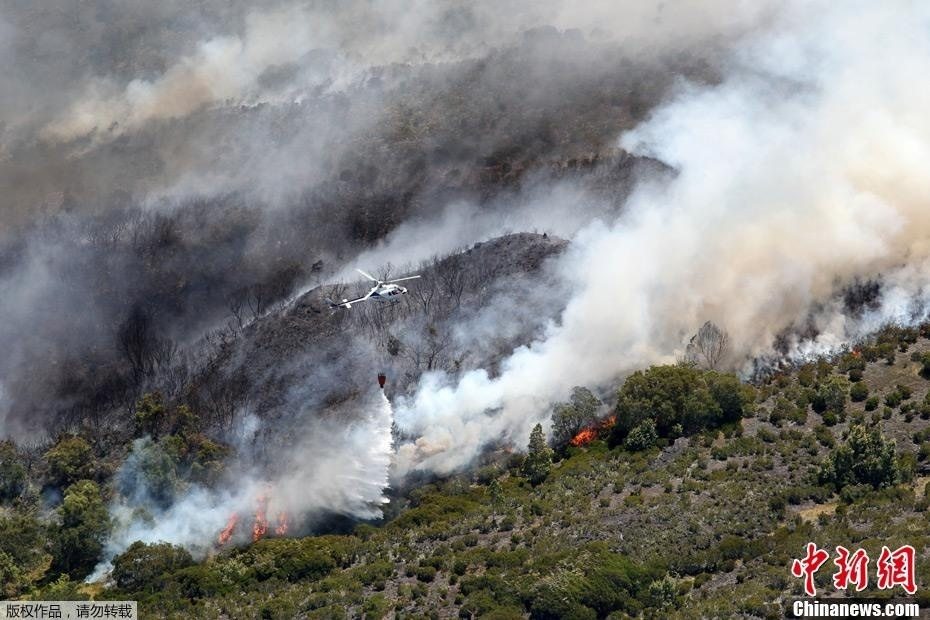fire: (210, 497, 290, 545), (567, 413, 617, 446)
